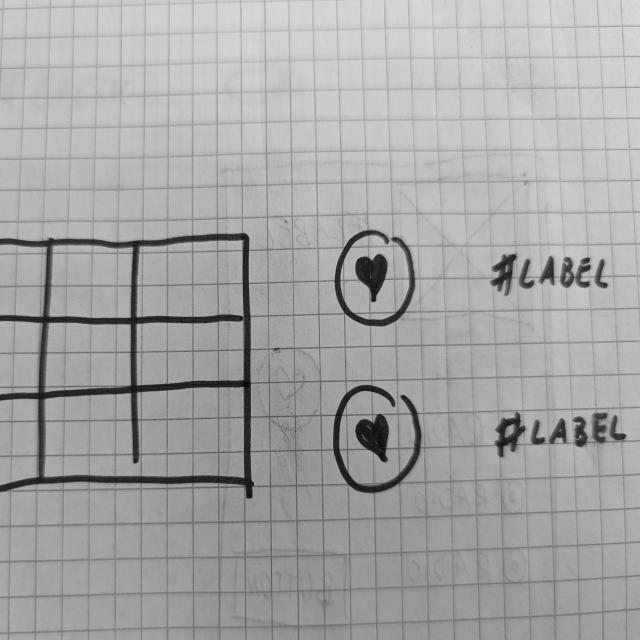icon-button: (331, 380, 426, 498), (330, 225, 420, 328)
label: (490, 408, 630, 458), (488, 248, 616, 300)
table: (0, 227, 256, 508)
